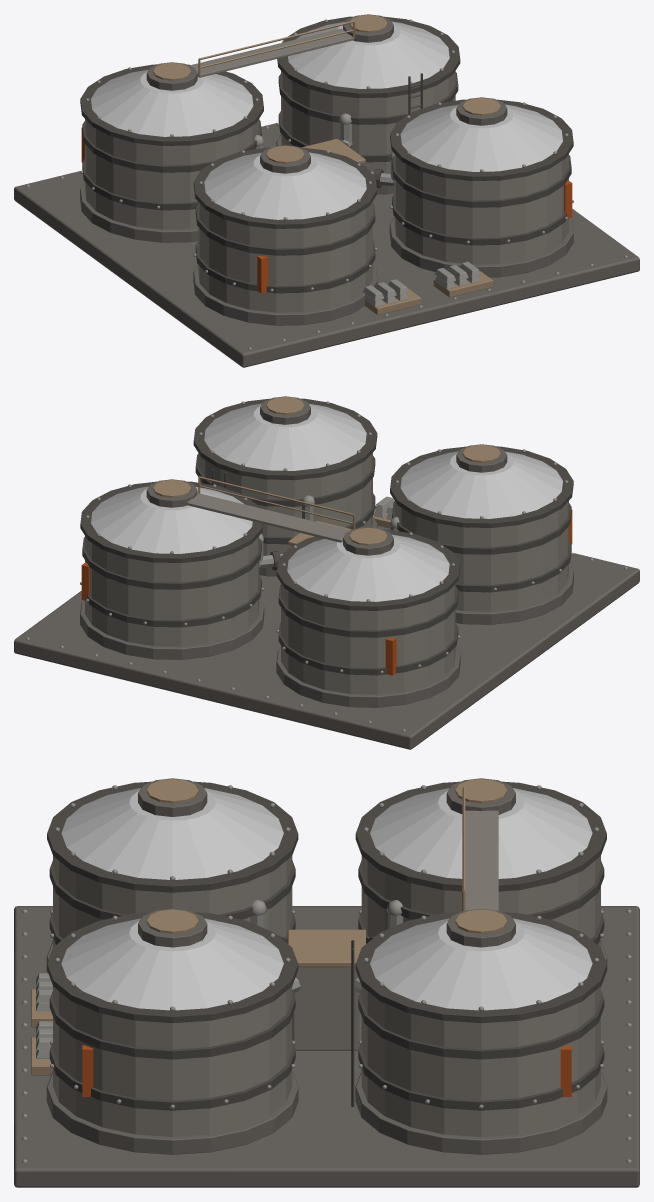
The model's file is crucible_metal_storage.glb.
3 views of the same model, one above another, from view 1: azimuth 30°, elevation 25°; view 2: azimuth 150°, elevation 25°; view 3: azimuth 270°, elevation 25° (orthographic). The views are drawn at different scales.
Visible parts, largest first — view 1: Body; view 2: Body; view 3: Body.
Part boxes in pixels (box(x1,y1,x2,y2)): Body: box(14, 14, 639, 367); Body: box(14, 396, 639, 749); Body: box(14, 778, 639, 1187).
Size of the model in its own units: 14.4 by 5.54 by 14.4.
